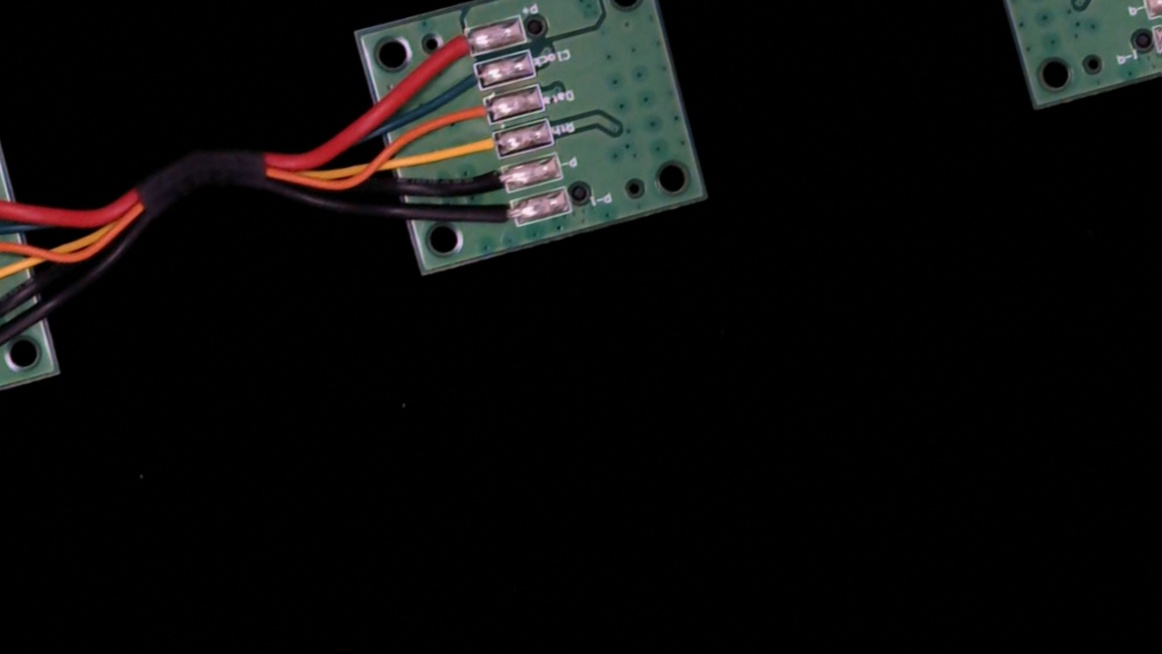Black: (462, 163, 524, 202)
Black1: (474, 199, 533, 238)
Green: (438, 62, 498, 103)
Orange: (445, 93, 507, 137)
Red: (424, 29, 487, 69)
Yellow: (448, 128, 516, 171)
